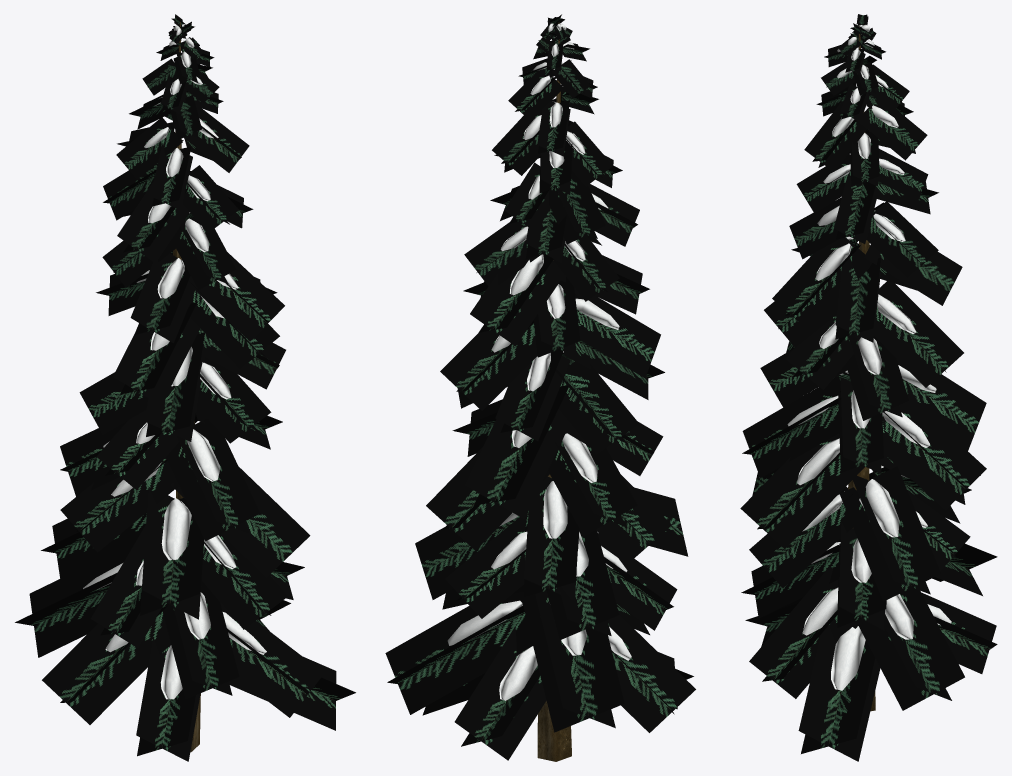
The picture shows the model from 3 angles, left to right: view 1: azimuth 30°, elevation 25°; view 2: azimuth 150°, elevation 25°; view 3: azimuth 270°, elevation 25°; orthographic projection. The views are drawn at different scales.
Parts seen in each view (by area): view 1: Mesh_NeedleSprays, Mesh_SupportedSnowLoads; view 2: Mesh_NeedleSprays, Mesh_SupportedSnowLoads, Mesh_BarkStructure; view 3: Mesh_NeedleSprays, Mesh_SupportedSnowLoads.
Part boxes in pixels (bbox=[...]): Mesh_NeedleSprays: bbox=[15, 14, 355, 761]; Mesh_SupportedSnowLoads: bbox=[83, 24, 266, 699]; Mesh_NeedleSprays: bbox=[385, 14, 695, 760]; Mesh_SupportedSnowLoads: bbox=[447, 23, 631, 700]; Mesh_BarkStructure: bbox=[537, 22, 571, 761]; Mesh_NeedleSprays: bbox=[740, 14, 997, 761]; Mesh_SupportedSnowLoads: bbox=[787, 24, 951, 690].
Size of the model in its own units: 5.07 by 12.7 by 4.43.
Materials: 3 (3 with a texture image).
